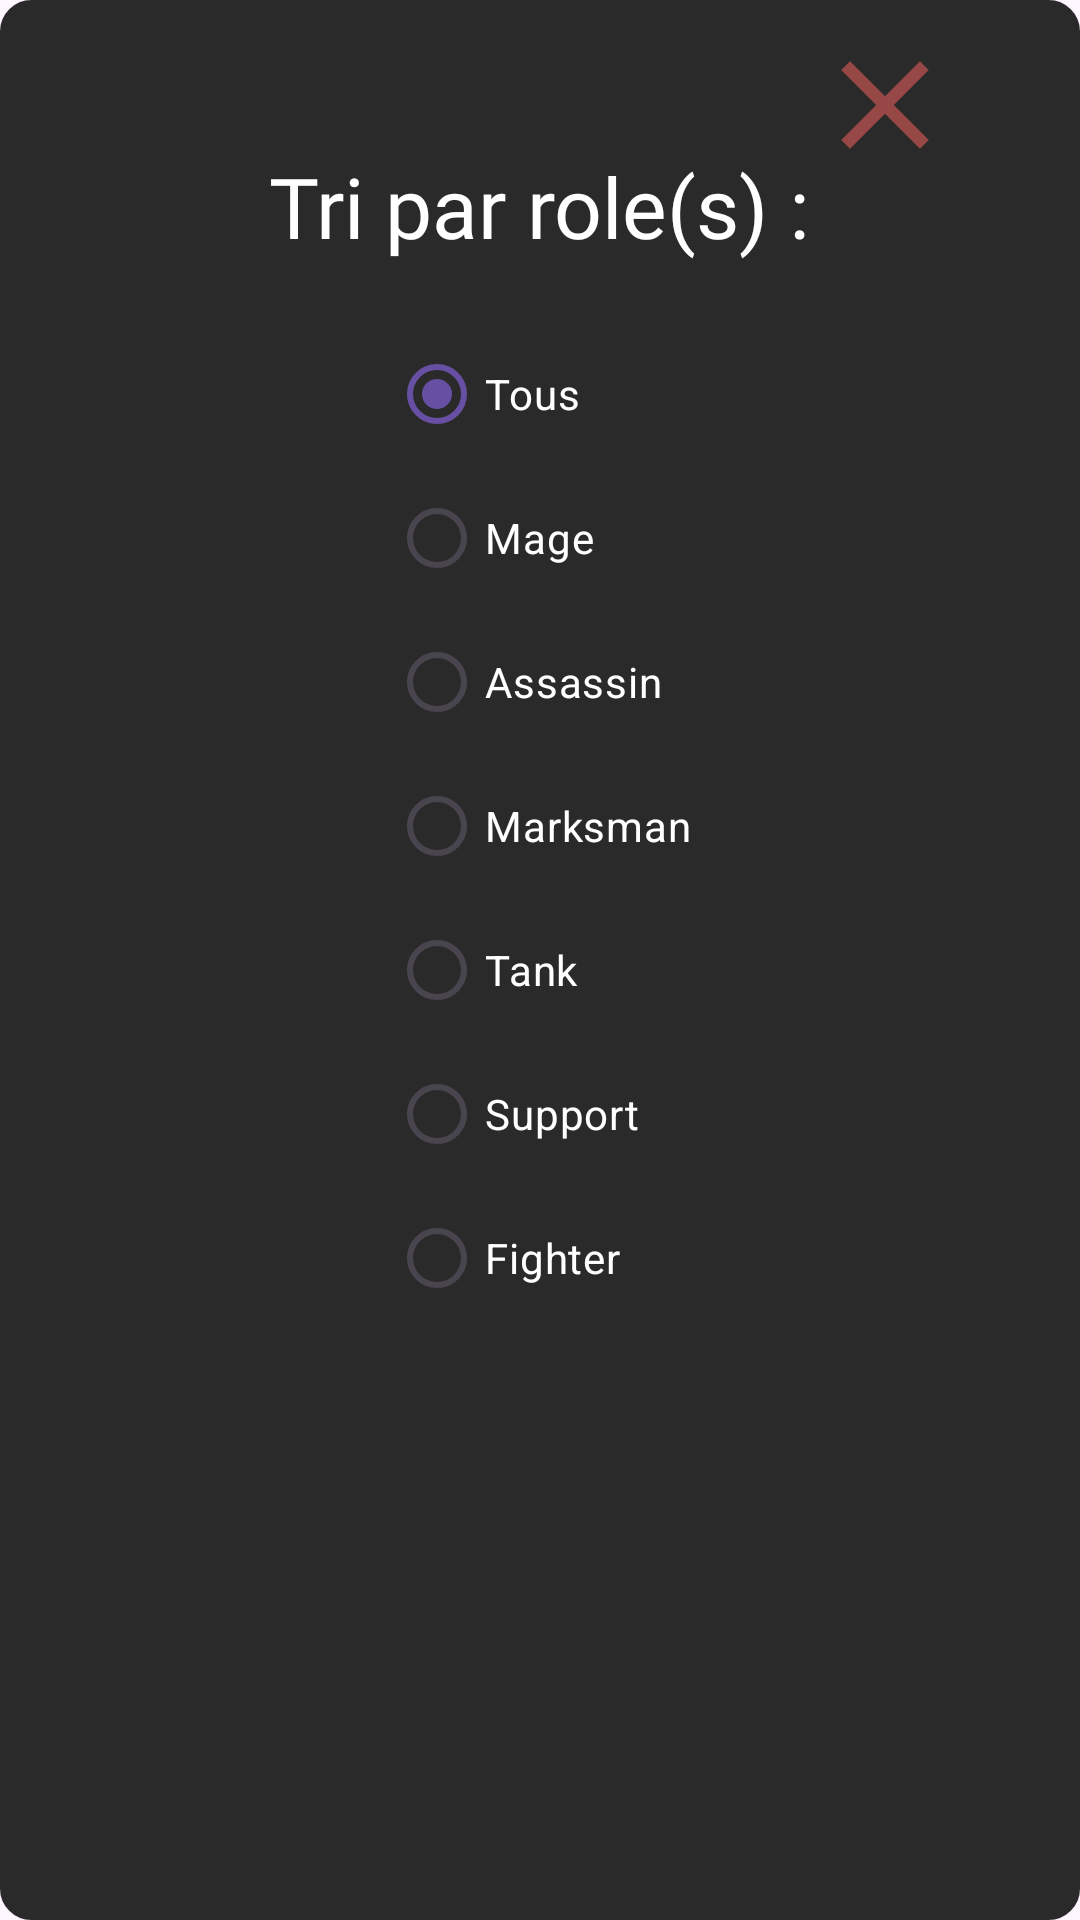

Named icons in this screenshot (1080px×1920px) and their bounding boxes, BBox(x1, y1, x2, y2):
close: BBox(841, 61, 929, 149)
